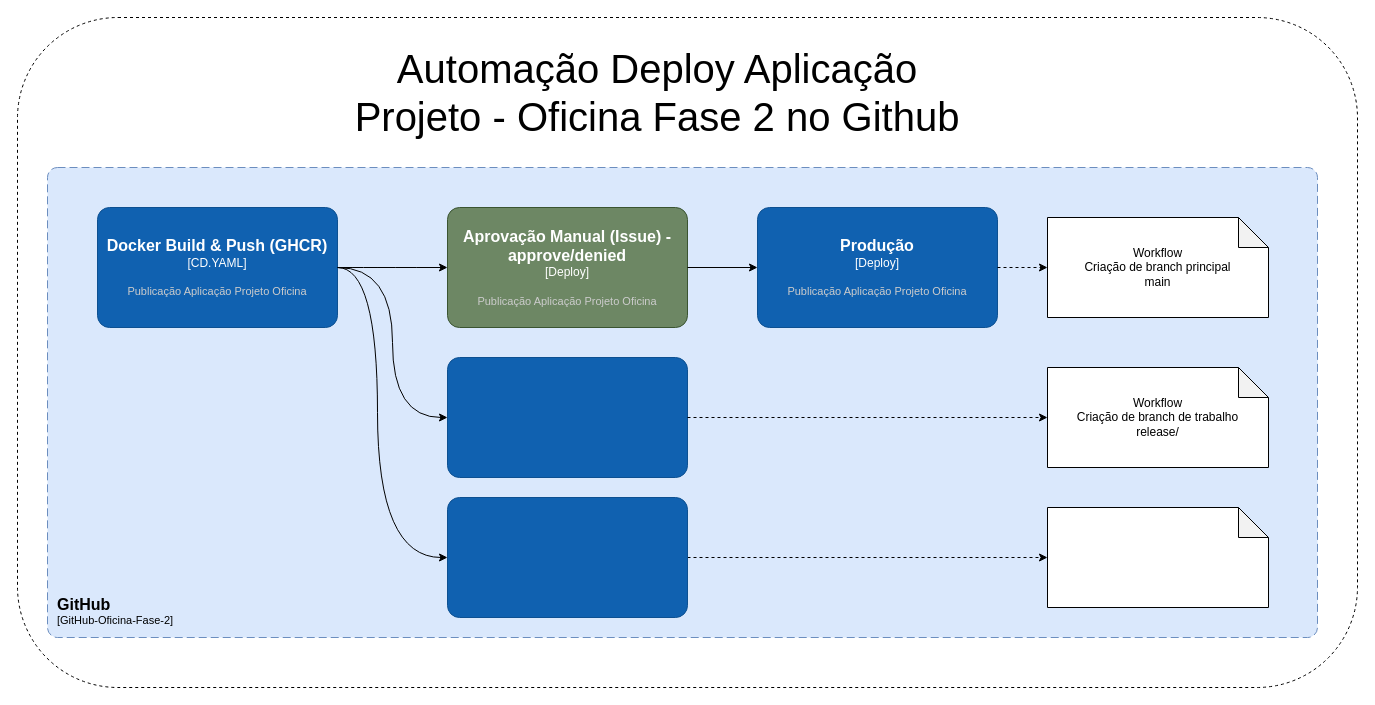
The diagram is 1375 pixels wide and 705 high, and some of its shapes have lost their labels. The shapes that lost their labels are listed below. From the top down, each one's box as (x1, y1, x2, y2) in pixels, then its label:
(446, 356, 688, 478): Pré-Produção (homologação) [Deploy] Publicação Aplicação Projeto Oficina
(446, 496, 688, 618): Staging (desenvolvimento) [Deploy] Publicação Aplicação Projeto Oficina
(1046, 506, 1268, 608): Workflow Criação de branch de trabalho feature/
